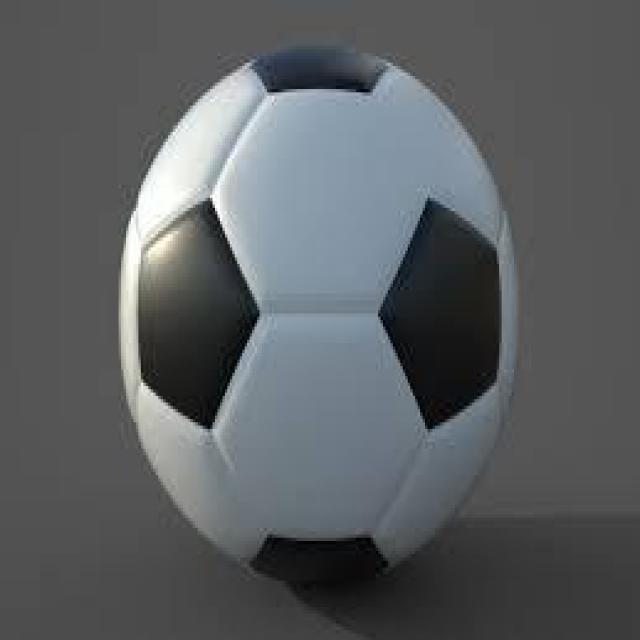Soccer Ball: (119, 43, 519, 594)
